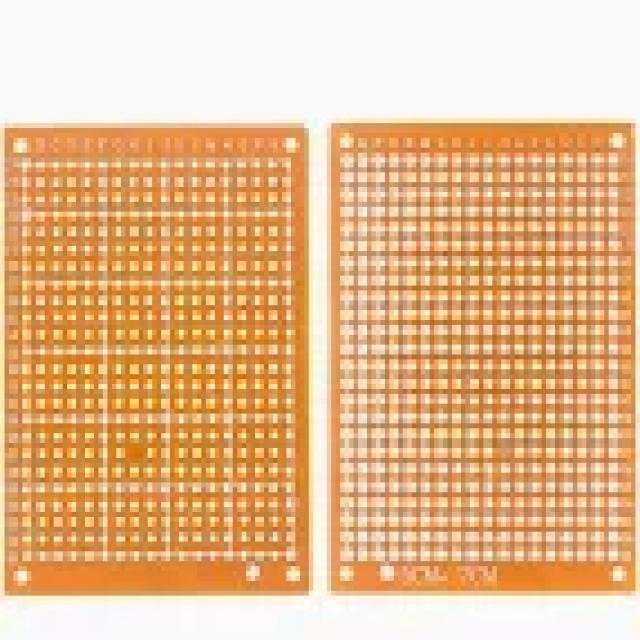pcb: (0, 118, 309, 596), (327, 118, 636, 591)
